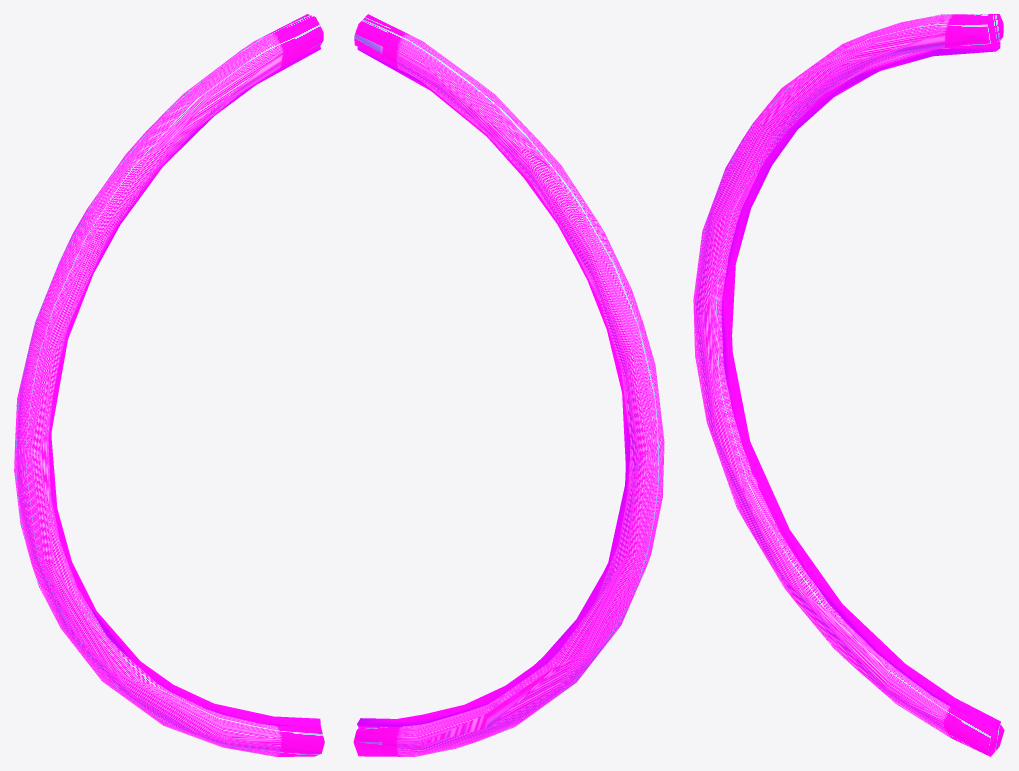
Rendered from WING_L.glb.
The picture shows the model from 3 angles, left to right: view 1: azimuth 30°, elevation 25°; view 2: azimuth 150°, elevation 25°; view 3: azimuth 330°, elevation 25°; orthographic projection.
Parts seen in each view (by area): view 1: WING_L_02_LITE; view 2: WING_L_02_LITE; view 3: WING_L_02_LITE.
Boxes of the visible parts, <box> form: WING_L_02_LITE: <box>14,14,324,756</box>; WING_L_02_LITE: <box>353,14,664,756</box>; WING_L_02_LITE: <box>693,14,1004,756</box>.
Bounding box in the file's own units: 2.02 × 4.73 × 0.201.
2 materials, 1 textured.
